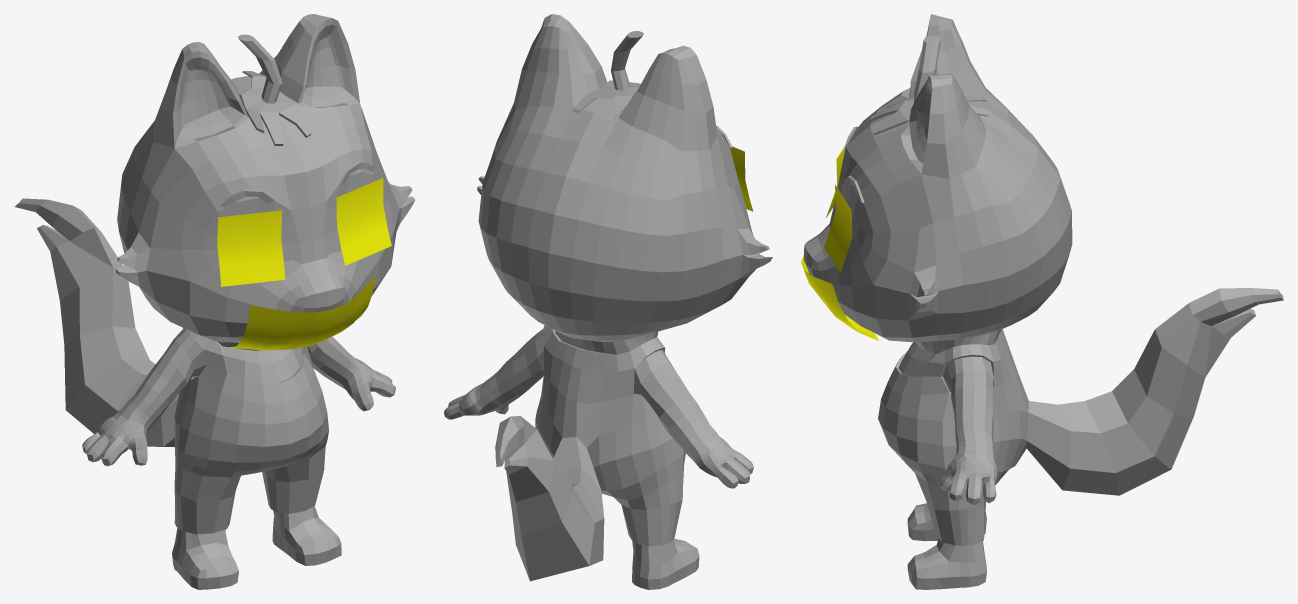
Rendered from MESH_StrawberryCat_HP.fbx.
The picture shows the model from 3 angles, left to right: view 1: azimuth 30°, elevation 25°; view 2: azimuth 150°, elevation 25°; view 3: azimuth 270°, elevation 25°; orthographic projection. The views are drawn at different scales.
Visible parts, largest first — view 1: transform15, pPlane5; view 2: transform15, pPlane5; view 3: transform15, pPlane5.
Part boxes in pixels (box(x1,y1,x2,y2)): transform15: box(15, 14, 415, 589); pPlane5: box(217, 178, 391, 350); transform15: box(444, 14, 772, 589); pPlane5: box(730, 146, 753, 211); transform15: box(803, 14, 1283, 589); pPlane5: box(801, 147, 878, 340).
Bounding box in the file's own units: 3.2 × 5.35 × 4.59.
